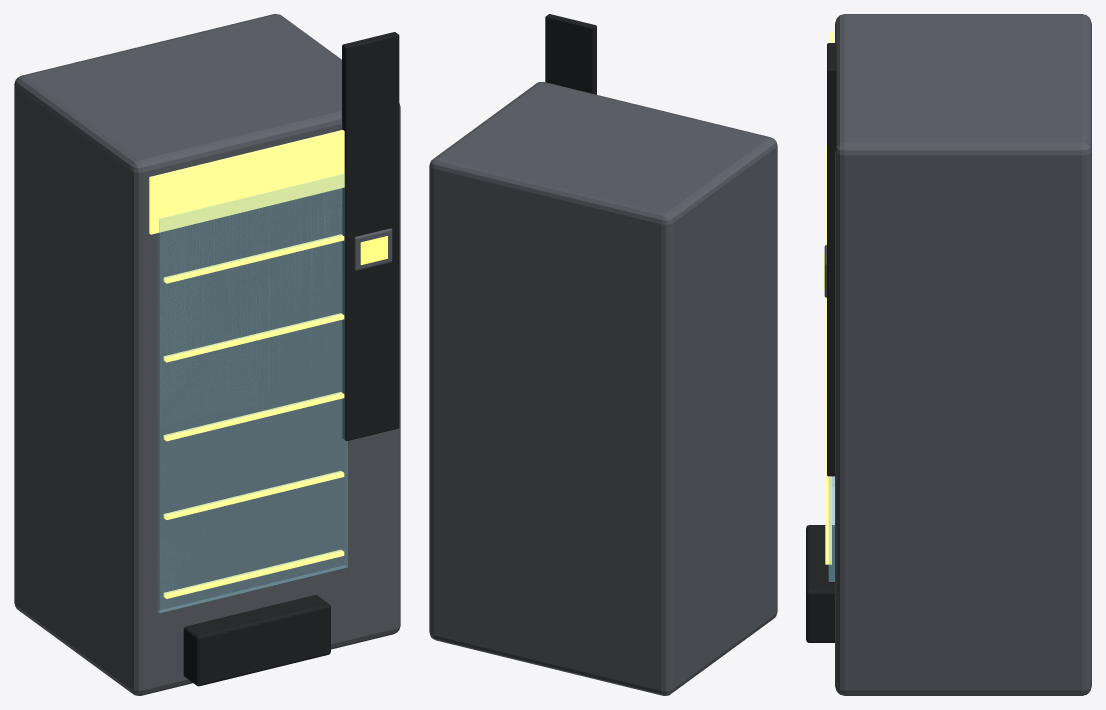
File: vending_machine_gear_vendor.glb
3 views of the same model, side by side, from view 1: azimuth 30°, elevation 25°; view 2: azimuth 150°, elevation 25°; view 3: azimuth 270°, elevation 25° (orthographic). The views are drawn at different scales.
Parts seen in each view (by area): view 1: GD_vending_machine_gear_vendor__m0, GD_vending_machine_gear_vendor__m1, GD_vending_machine_gear_vendor__m8, GD_vending_machine_gear_vendor__m7, GD_vending_machine_gear_vendor__m9; view 2: GD_vending_machine_gear_vendor__m0, GD_vending_machine_gear_vendor__m8; view 3: GD_vending_machine_gear_vendor__m0, GD_vending_machine_gear_vendor__m8, GD_vending_machine_gear_vendor__m7, GD_vending_machine_gear_vendor__m1.
Boxes of the visible parts, x1=… form: GD_vending_machine_gear_vendor__m0: x1=14, y1=14, x2=400, y2=695; GD_vending_machine_gear_vendor__m1: x1=157, y1=173, x2=347, y2=612; GD_vending_machine_gear_vendor__m8: x1=183, y1=32, x2=399, y2=686; GD_vending_machine_gear_vendor__m7: x1=149, y1=130, x2=344, y2=598; GD_vending_machine_gear_vendor__m9: x1=360, y1=236, x2=387, y2=265; GD_vending_machine_gear_vendor__m0: x1=429, y1=81, x2=777, y2=695; GD_vending_machine_gear_vendor__m8: x1=545, y1=14, x2=596, y2=94; GD_vending_machine_gear_vendor__m0: x1=824, y1=14, x2=1091, y2=695; GD_vending_machine_gear_vendor__m8: x1=806, y1=43, x2=836, y2=642; GD_vending_machine_gear_vendor__m7: x1=825, y1=32, x2=833, y2=564; GD_vending_machine_gear_vendor__m1: x1=828, y1=476, x2=834, y2=581.
Bounding box in the file's own units: 1 × 2.15 × 0.89.
